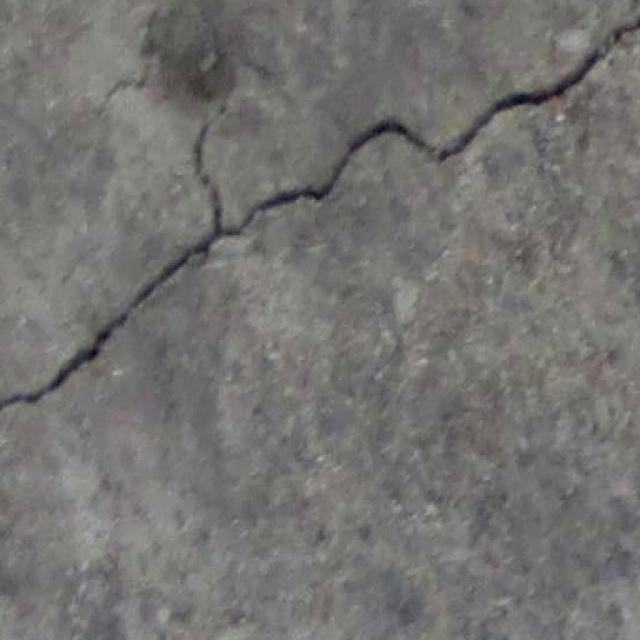crack: (1, 9, 639, 417)
